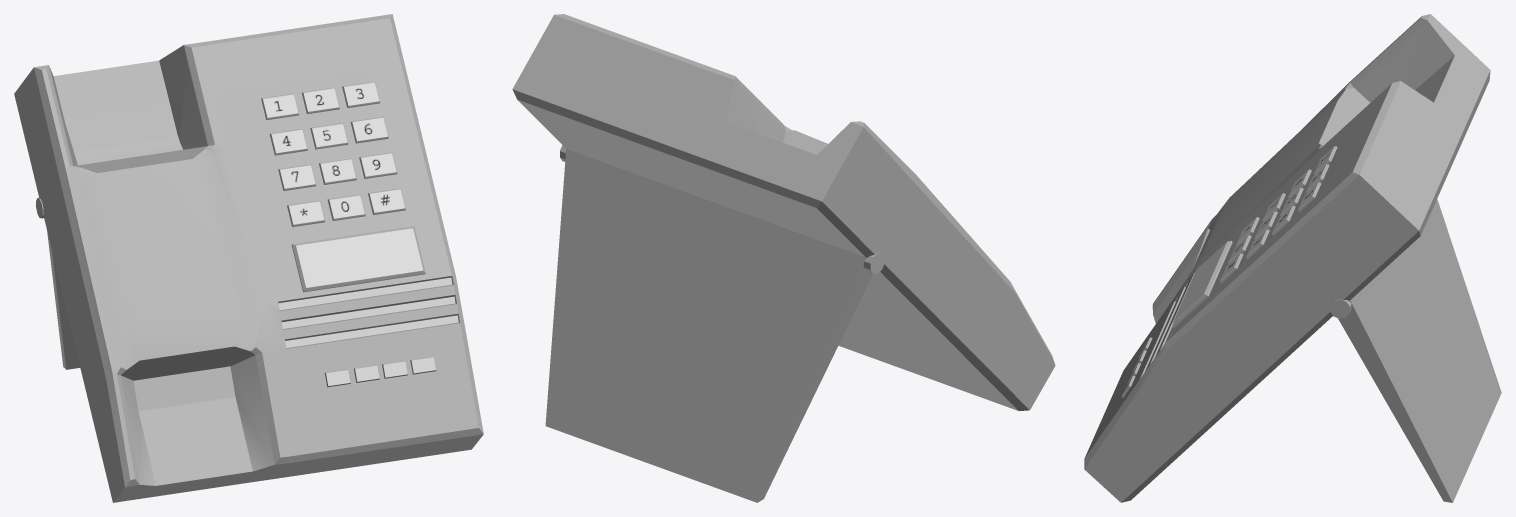
File: Phone 2 main V2.fbx
3 views of the same model, side by side, from view 1: azimuth 30°, elevation 25°; view 2: azimuth 150°, elevation 25°; view 3: azimuth 270°, elevation 25° (orthographic). The views are drawn at different scales.
Visible parts, largest first — view 1: pCube1, pCube3, pCube11, pCube9, pCube5, pCube13, pCube12, pCube8, pCube14, pCube4, pCube6, pCube15 (+2 smaller); view 2: pCube1; view 3: pCube1, pCube3.
Boxes of the visible parts, x1,y1,x2,y2 form: pCube1: [14, 14, 483, 502]; pCube3: [291, 226, 425, 292]; pCube11: [350, 117, 388, 143]; pCube9: [278, 164, 316, 190]; pCube5: [327, 194, 365, 220]; pCube13: [302, 87, 339, 113]; pCube12: [269, 129, 307, 155]; pCube8: [359, 152, 397, 178]; pCube14: [342, 81, 380, 107]; pCube4: [287, 200, 324, 226]; pCube6: [368, 188, 405, 214]; pCube15: [261, 93, 299, 120]; pCube1: [512, 14, 1055, 502]; pCube1: [1084, 14, 1501, 502]; pCube3: [1172, 240, 1232, 327].
Bounding box in the file's own units: 19.32 × 16.7 × 18.2.
Materials: 1 (1 with a texture image).
